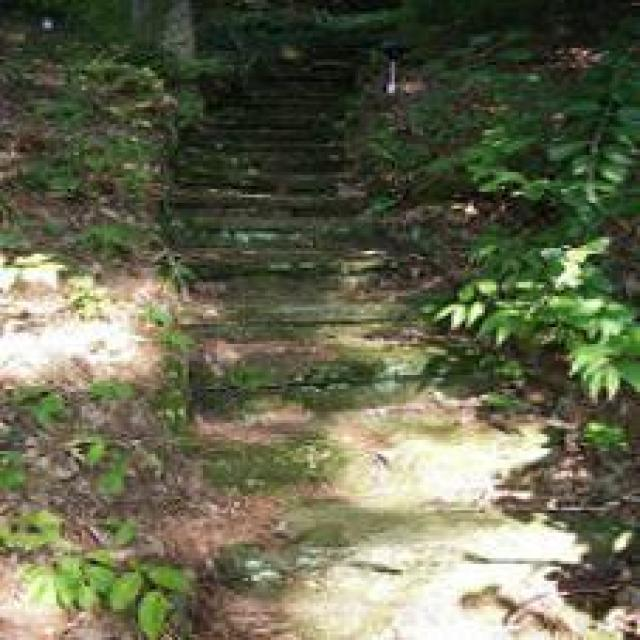upstair: (156, 196, 514, 559)
